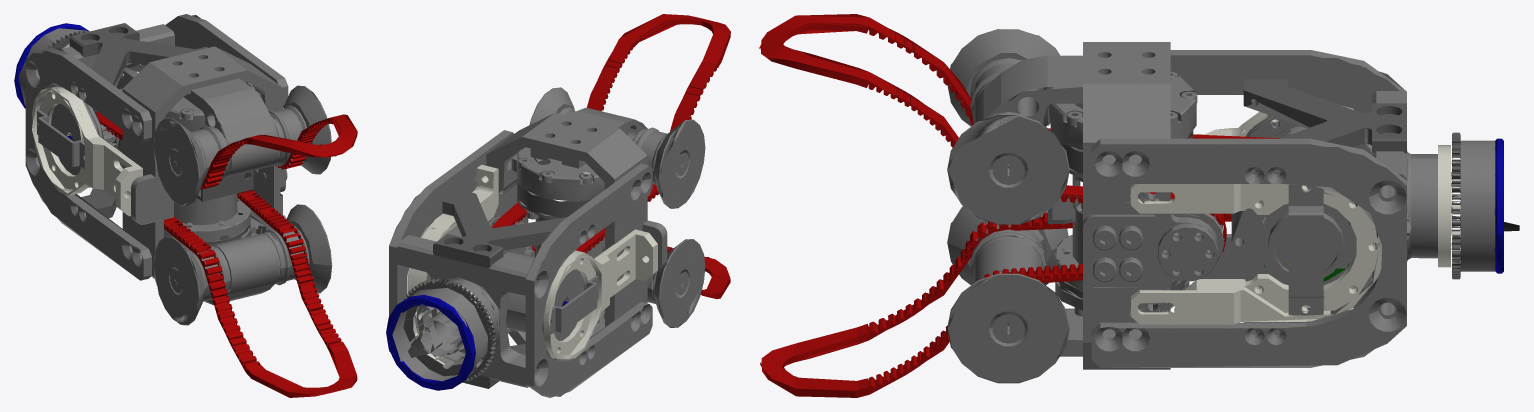
Rendered from armr_elb2_joint.obj.
3 views of the same model, side by side, from view 1: azimuth 30°, elevation 25°; view 2: azimuth 150°, elevation 25°; view 3: azimuth 270°, elevation 25° (orthographic). The views are drawn at different scales.
Bounding box in the file's own units: 0.056 × 0.0847 × 0.1737.
Materials: 1 (1 with a texture image).
